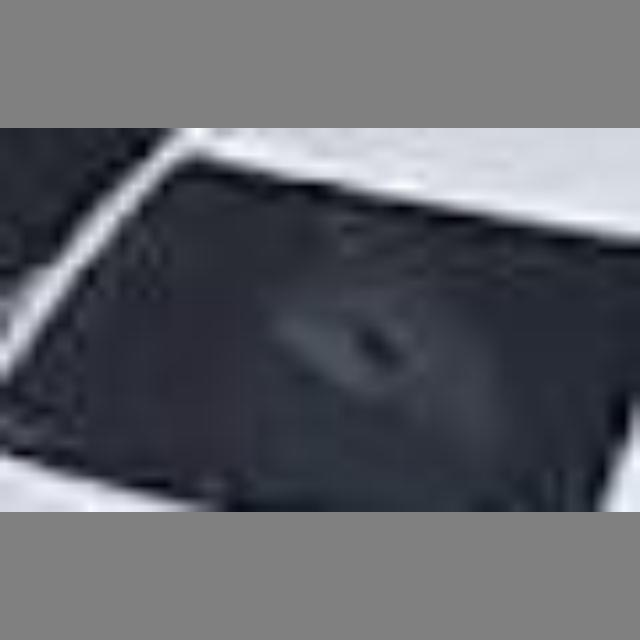tidak-pakai: (256, 224, 491, 448)
